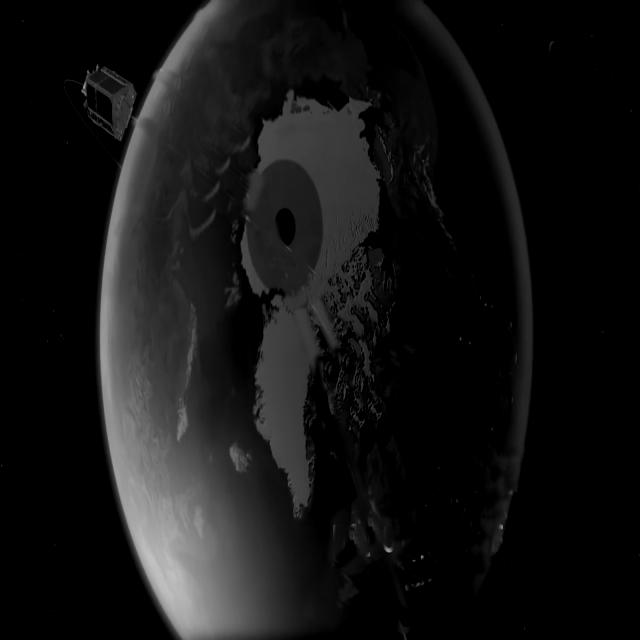large_debris: (232, 149, 341, 298)
medium_debris: (74, 60, 151, 153)
